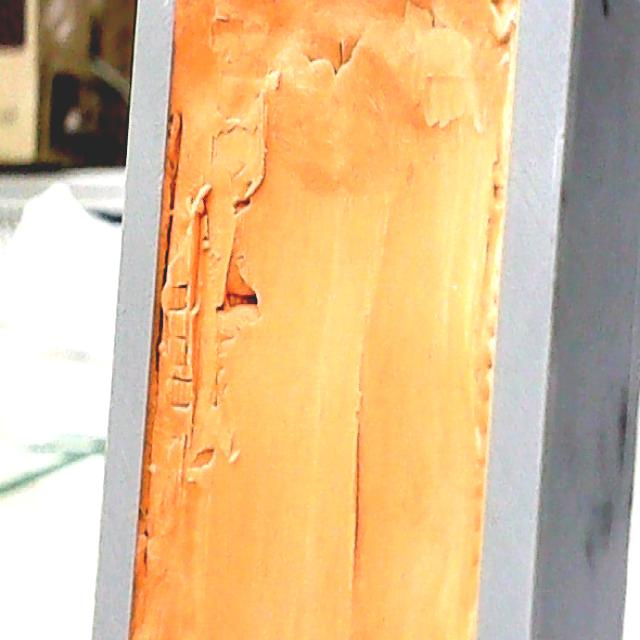block: (82, 0, 640, 640)
